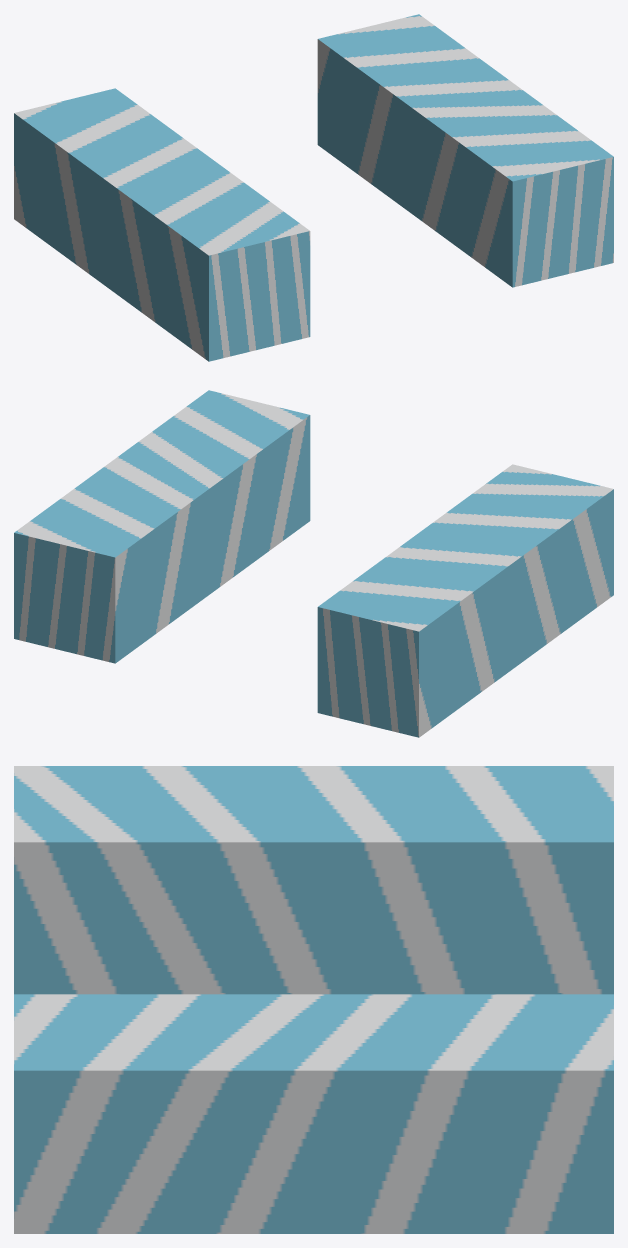
The model's file is beam.obj.
The picture shows the model from 3 angles, top to bottom: view 1: azimuth 30°, elevation 25°; view 2: azimuth 150°, elevation 25°; view 3: azimuth 270°, elevation 25°; orthographic projection. The views are drawn at different scales.
Visible parts, largest first — view 1: Cube.001; view 2: Cube.001; view 3: Cube.001.
Boxes of the visible parts, x1,y1,x2,y2 form: Cube.001: (14, 14, 613, 361); Cube.001: (14, 390, 613, 737); Cube.001: (14, 766, 613, 1233).
Size of the model in its own units: 1.2 by 0.3005 by 1.
Materials: 2 (2 with a texture image).
